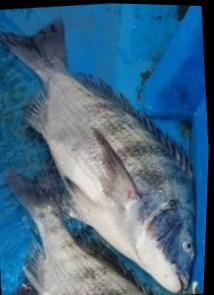fish: (0, 17, 198, 292)
